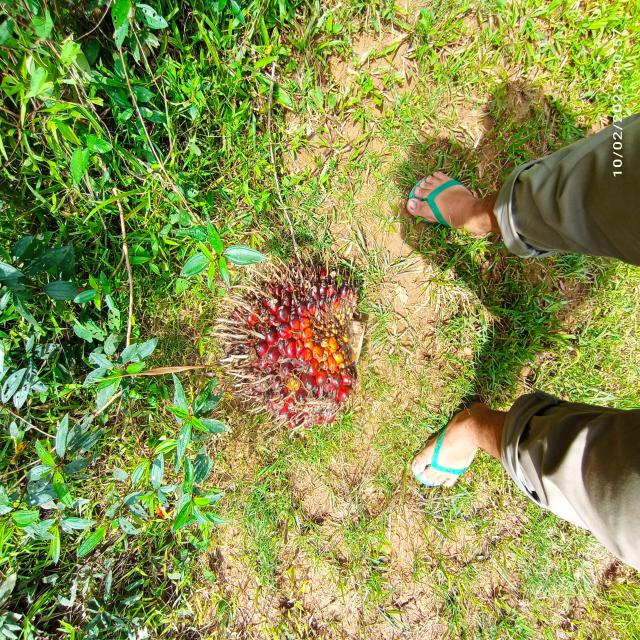fraksi 3: (182, 246, 388, 446)
